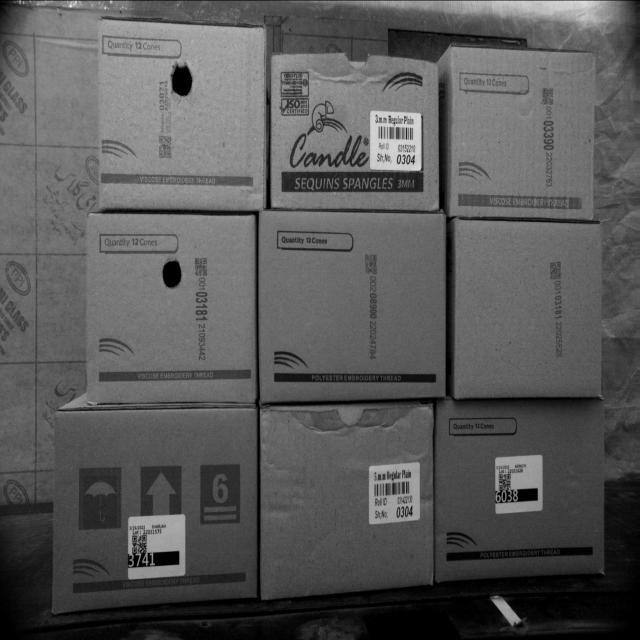box: (55, 406, 256, 615), (255, 211, 448, 395), (95, 15, 266, 211), (85, 217, 257, 406), (260, 404, 433, 590), (437, 400, 606, 572), (452, 216, 606, 397), (270, 51, 441, 208), (449, 44, 596, 223)
